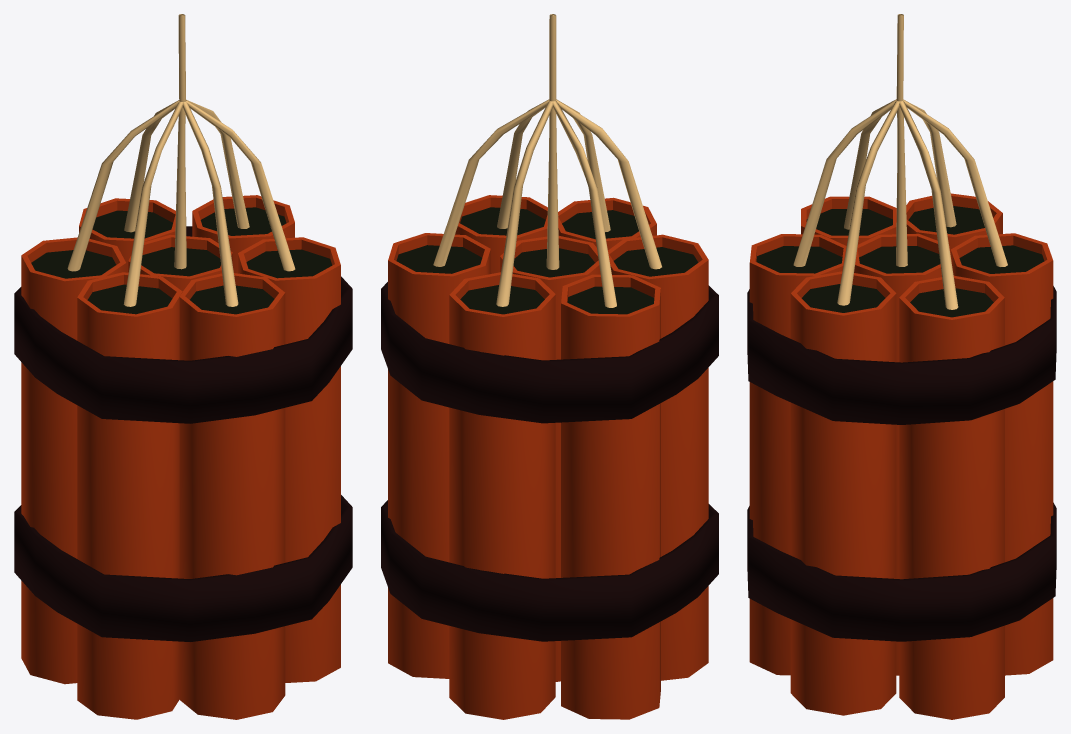
File: Dynamite.fbx
3 views of the same model, side by side, from view 1: azimuth 30°, elevation 25°; view 2: azimuth 150°, elevation 25°; view 3: azimuth 270°, elevation 25° (orthographic).
Visible parts, largest first — view 1: Dynamite, Dynamite.001, Tape, Tape.001, Dynamite.004, Dynamite.002, Dynamite.006, Dynamite.005, Dynamite.003; view 2: Dynamite.003, Dynamite.004, Dynamite.005, Tape, Tape.001, Dynamite.001, Dynamite.006, Dynamite.002, Dynamite; view 3: Dynamite.002, Dynamite.005, Tape.001, Tape, Dynamite.003, Dynamite, Dynamite.006, Dynamite.004, Dynamite.001.
Boxes of the visible parts, x1=… form: Dynamite: x1=179, y1=100, x2=285, y2=719; Dynamite.001: x1=77, y1=101, x2=182, y2=719; Tape: x1=14, y1=226, x2=352, y2=423; Tape.001: x1=14, y1=495, x2=352, y2=641; Dynamite.004: x1=21, y1=100, x2=179, y2=684; Dynamite.002: x1=184, y1=100, x2=340, y2=682; Dynamite.006: x1=128, y1=14, x2=232, y2=291; Dynamite.005: x1=187, y1=100, x2=294, y2=273; Dynamite.003: x1=79, y1=100, x2=178, y2=272; Dynamite.003: x1=449, y1=100, x2=555, y2=719; Dynamite.004: x1=552, y1=101, x2=660, y2=719; Dynamite.005: x1=388, y1=99, x2=549, y2=678; Tape: x1=381, y1=282, x2=718, y2=423; Tape.001: x1=381, y1=500, x2=718, y2=641; Dynamite.001: x1=556, y1=99, x2=708, y2=680; Dynamite.006: x1=500, y1=14, x2=600, y2=681; Dynamite.002: x1=455, y1=102, x2=547, y2=273; Dynamite: x1=556, y1=99, x2=656, y2=249; Dynamite.002: x1=790, y1=100, x2=899, y2=715; Dynamite.005: x1=899, y1=100, x2=1004, y2=719; Tape.001: x1=747, y1=502, x2=1056, y2=641; Tape: x1=747, y1=286, x2=1056, y2=424; Dynamite.003: x1=903, y1=99, x2=1053, y2=675; Dynamite: x1=749, y1=99, x2=896, y2=675; Dynamite.006: x1=854, y1=14, x2=951, y2=675; Dynamite.004: x1=906, y1=101, x2=1002, y2=252; Dynamite.001: x1=801, y1=100, x2=896, y2=245.
Size of the model in its own units: 608 by 1336 by 585.
